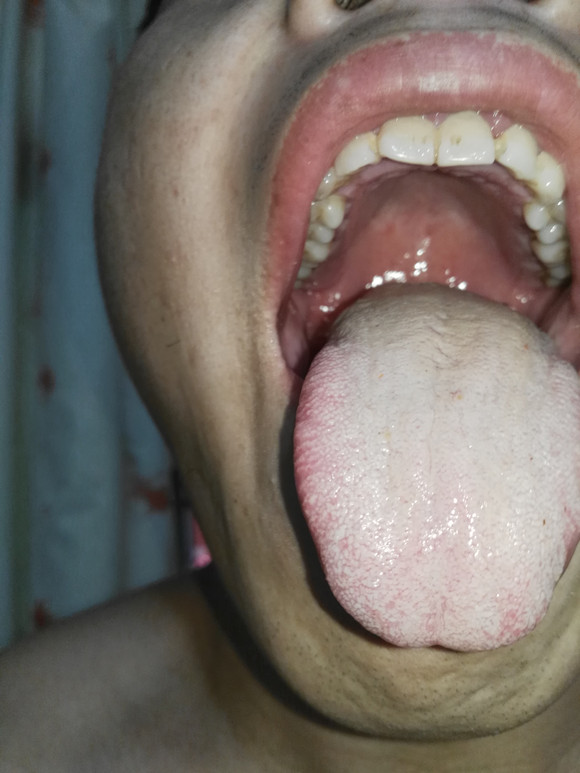baitaishe: (292, 283, 580, 654)
pangdashe: (292, 283, 580, 654)
